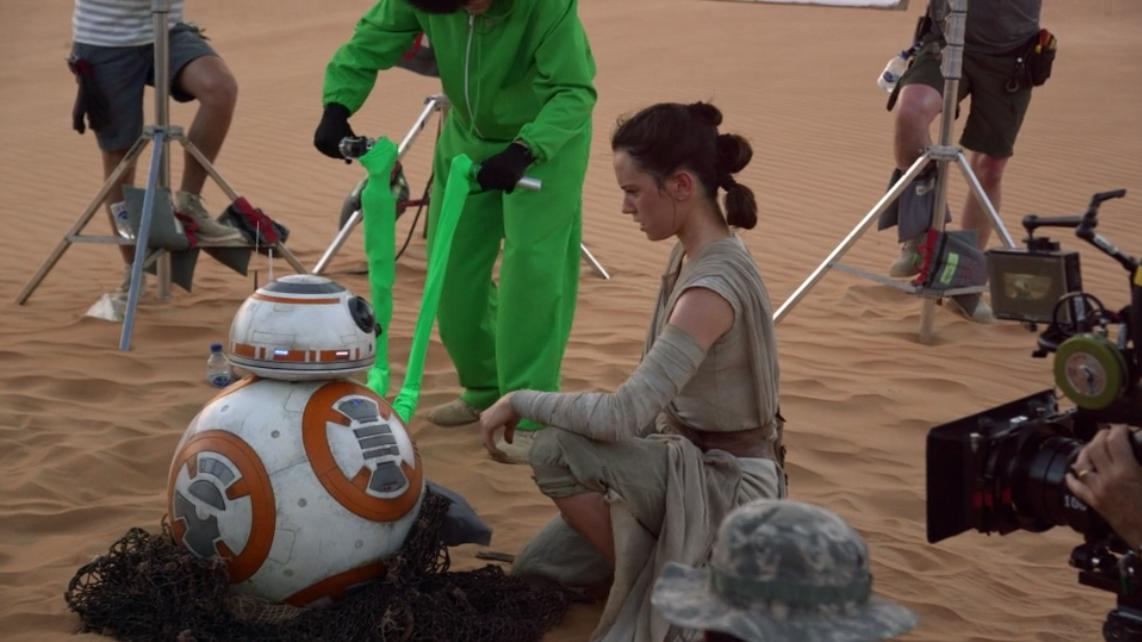bb8: (166, 272, 425, 607)
